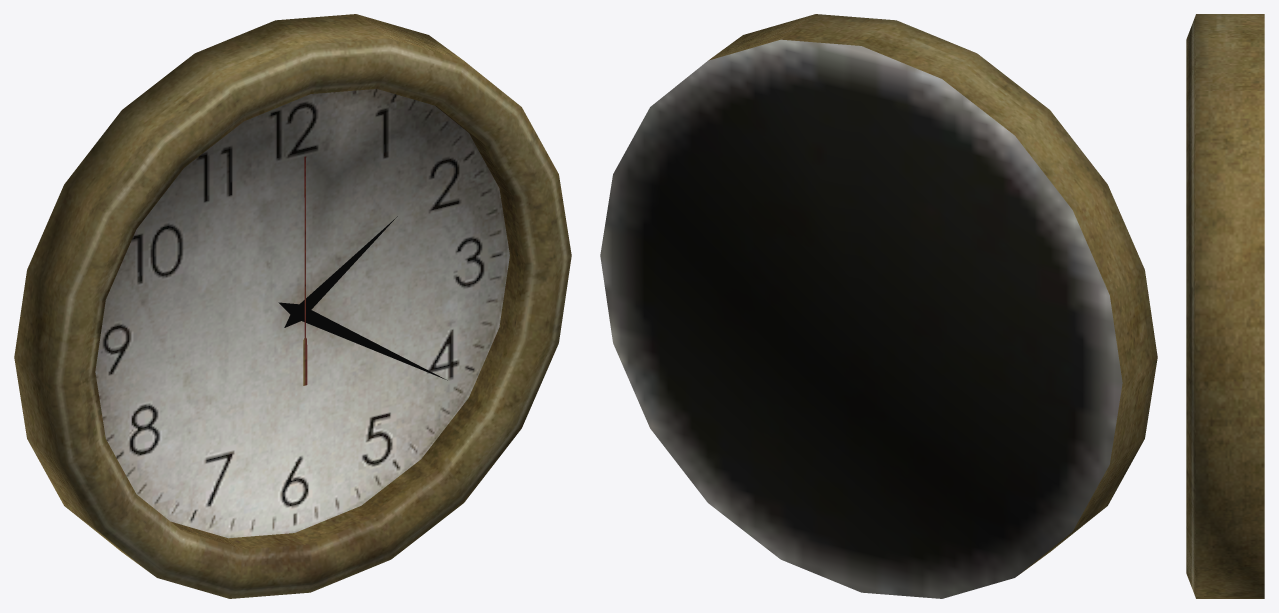
File: clock01.FBX
3 renders of one model, left to right at view 1: azimuth 30°, elevation 25°; view 2: azimuth 150°, elevation 25°; view 3: azimuth 270°, elevation 25°, orthographic. The views are drawn at different scales.
Parts seen in each view (by area): view 1: SM_Clock01; view 2: SM_Clock01; view 3: SM_Clock01.
Boxes of the visible parts, bbox=[...] form: SM_Clock01: bbox=[14, 14, 571, 598]; SM_Clock01: bbox=[600, 14, 1157, 598]; SM_Clock01: bbox=[1186, 14, 1264, 598].
Bounding box in the file's own units: 37.82 × 37.82 × 5.03.
Materials: 1 (1 with a texture image).
